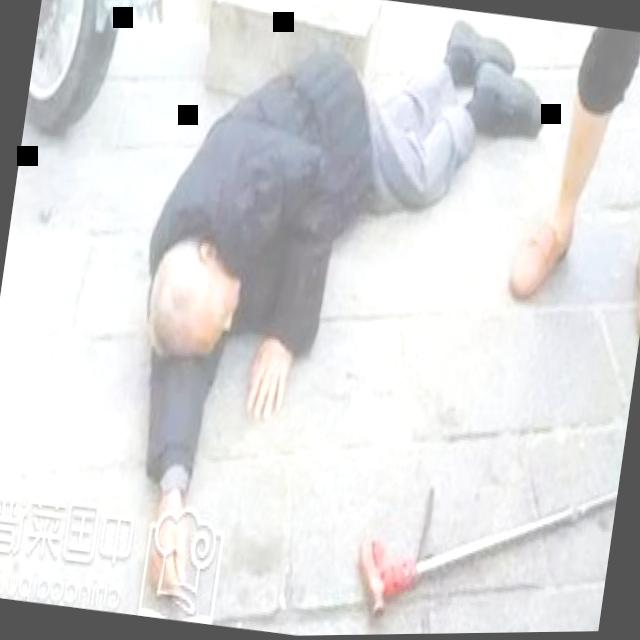Fall-Detected: (85, 0, 567, 639)
